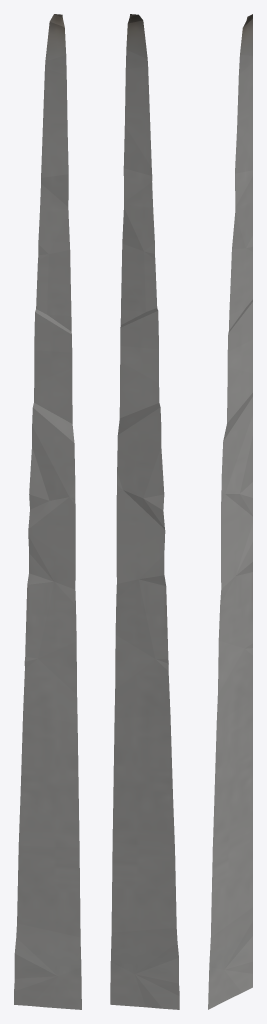
The picture shows the model from 3 angles, left to right: view 1: azimuth 30°, elevation 25°; view 2: azimuth 210°, elevation 25°; view 3: azimuth 270°, elevation 25°; orthographic projection. The views are drawn at different scales.
Bounding box in the file's own units: 0.0817 × 1.67 × 0.0688.
Materials: 1 (1 with a texture image).
